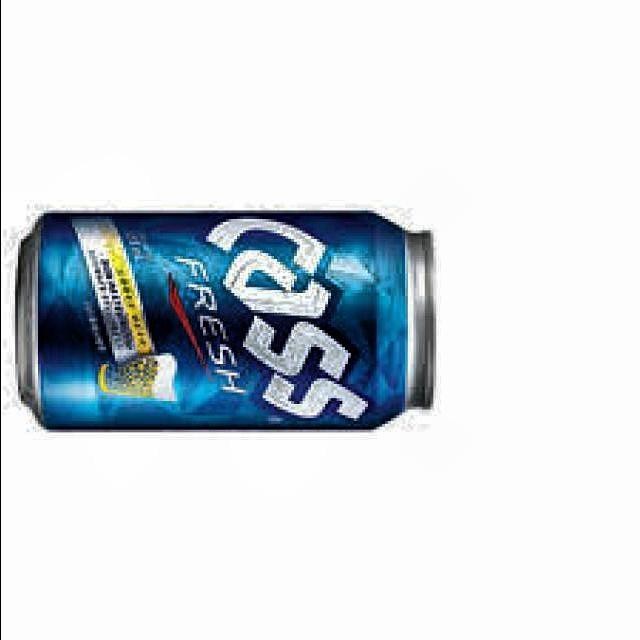Aluminum Can: (6, 201, 450, 445)
